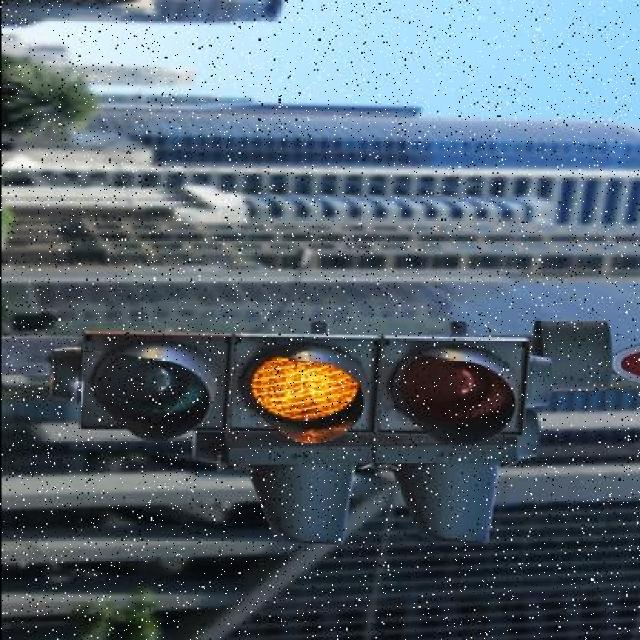yellow-light: (70, 320, 587, 487)
